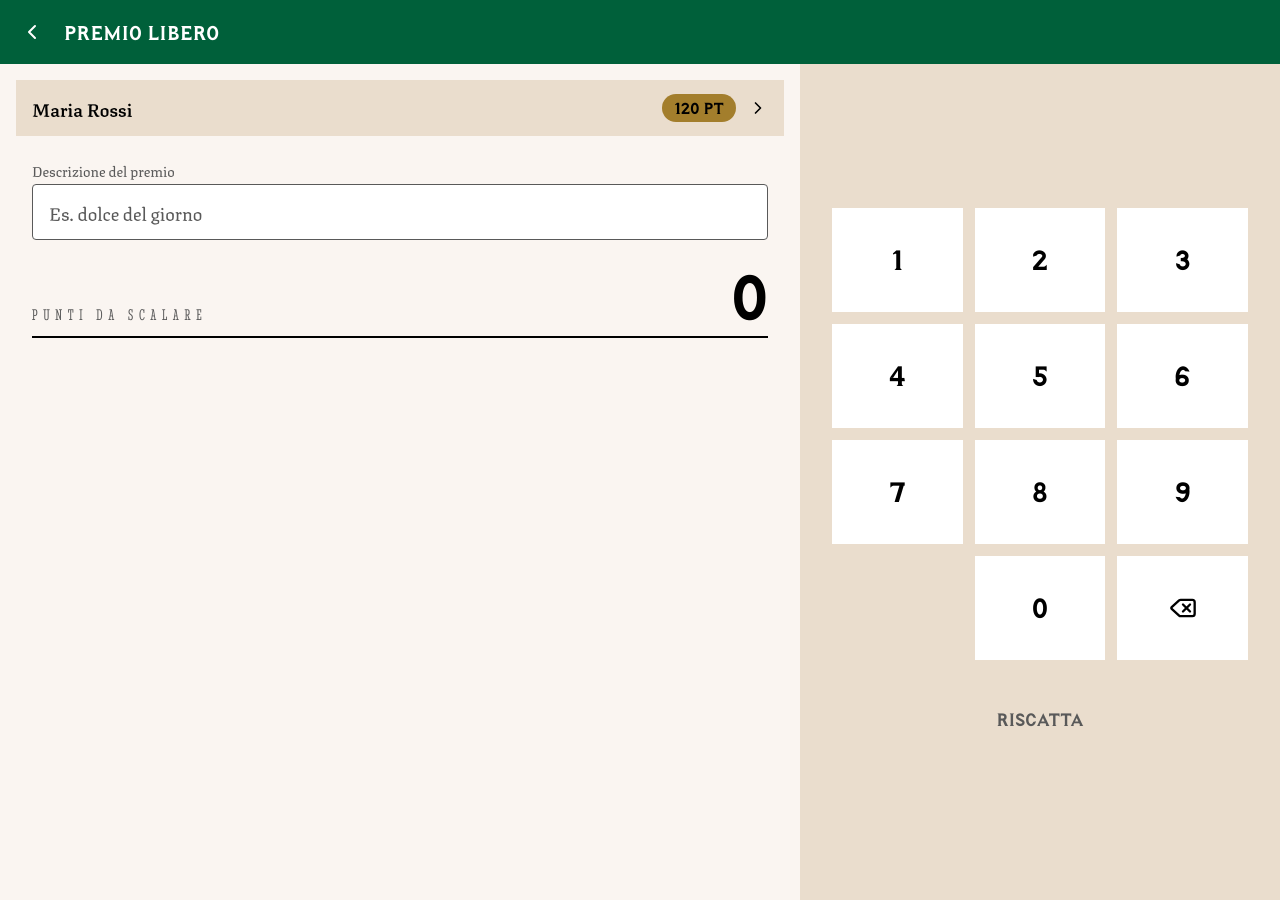
FreeRewardForm: Premio libero › insufficient-balance from the server (changed meanwhile): the balance reloads
In the field labelled "Descrizione del premio": (400, 212) [32,184,768,240], type "Dolce"
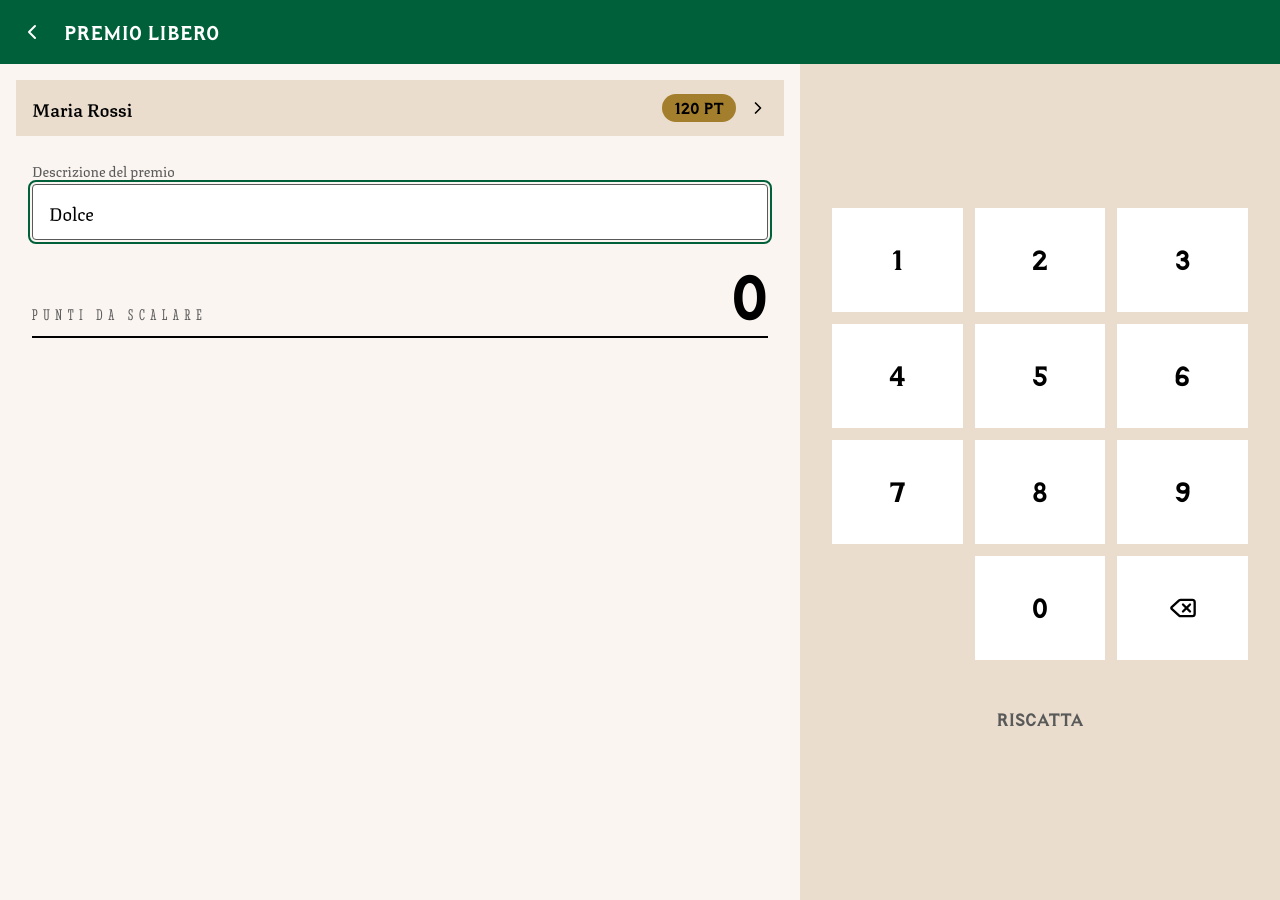
Click the button "1": (897, 260) [832,208,963,312]
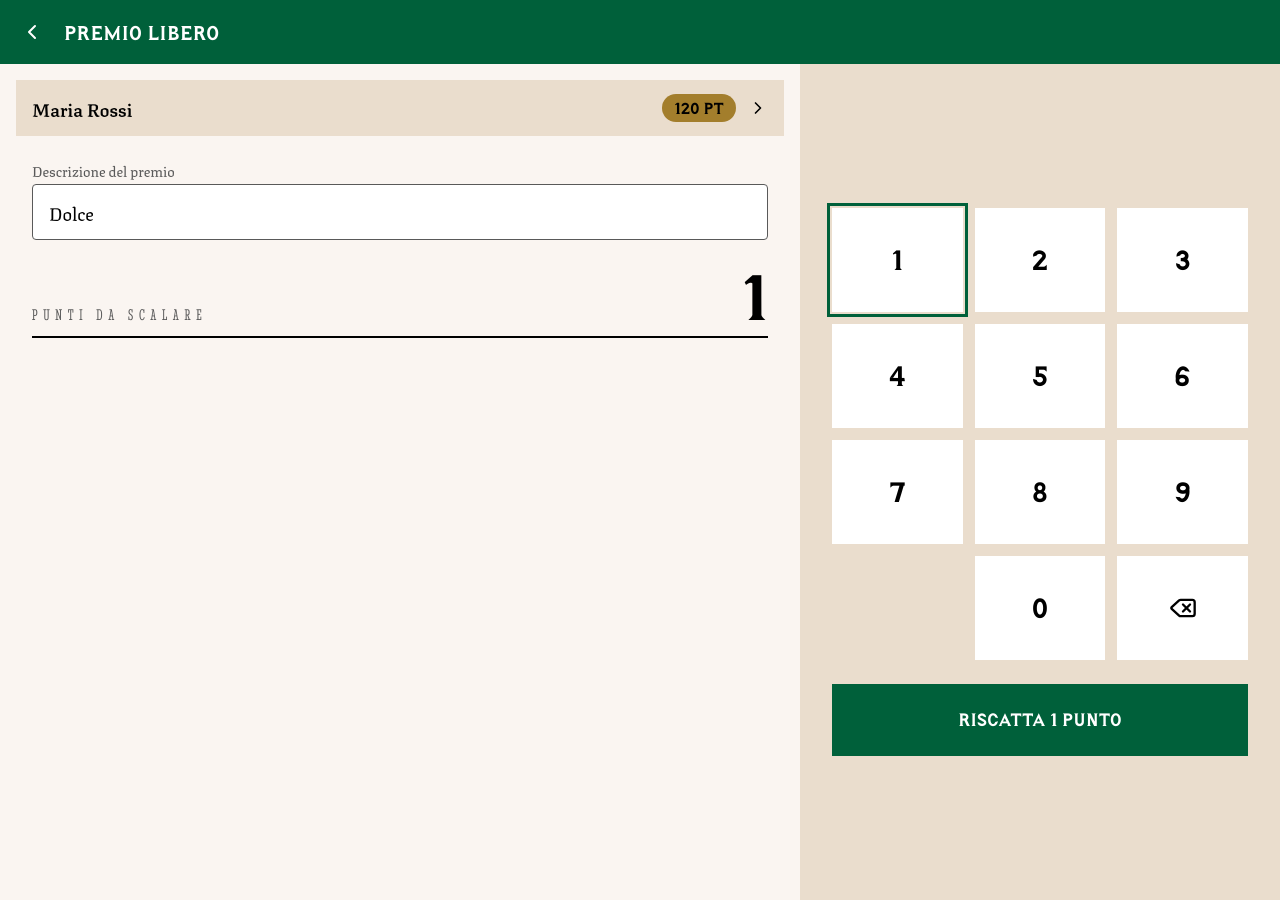
Click the button "0": (1040, 608) [975,556,1105,660]
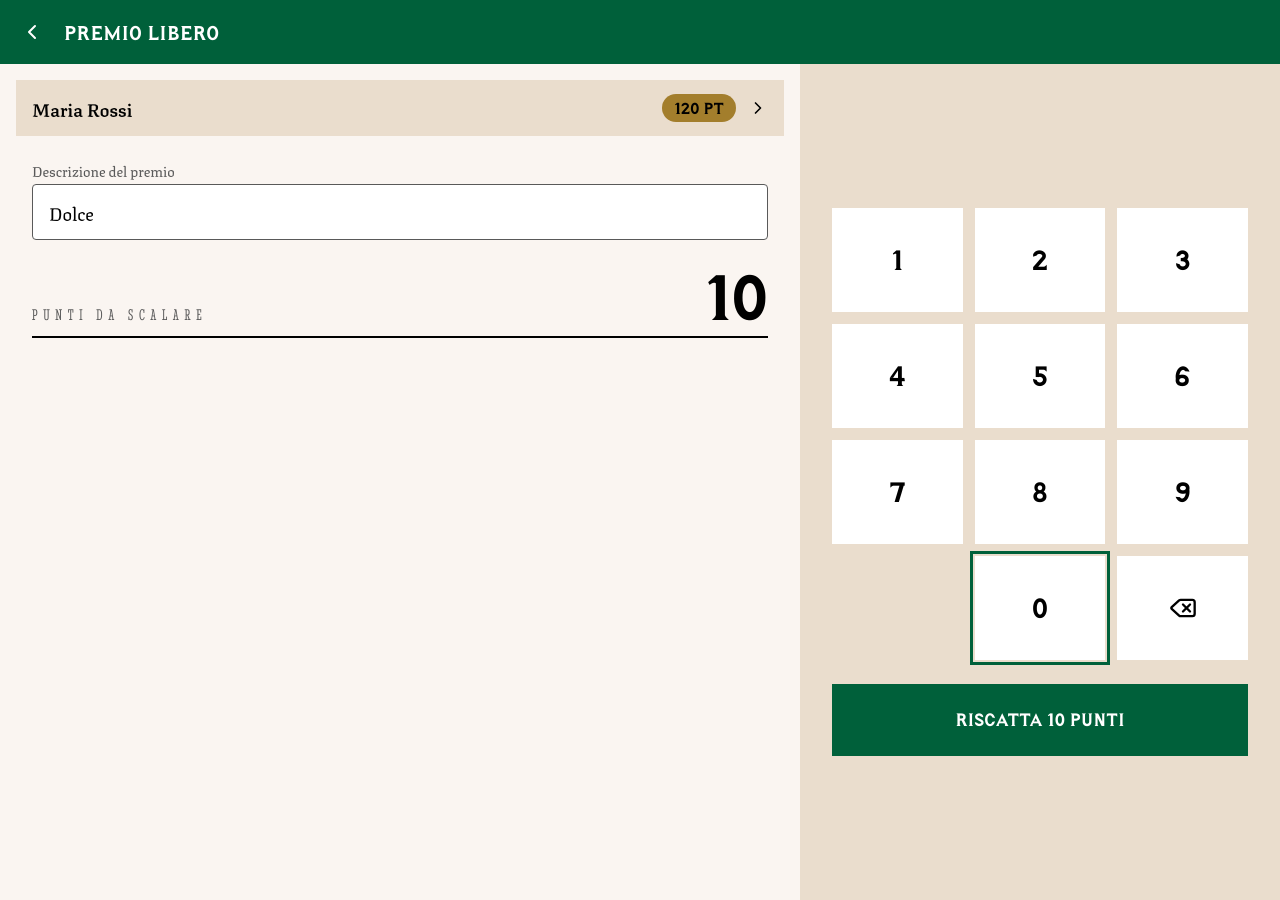
Click the button "0": (1040, 608) [975,556,1105,660]
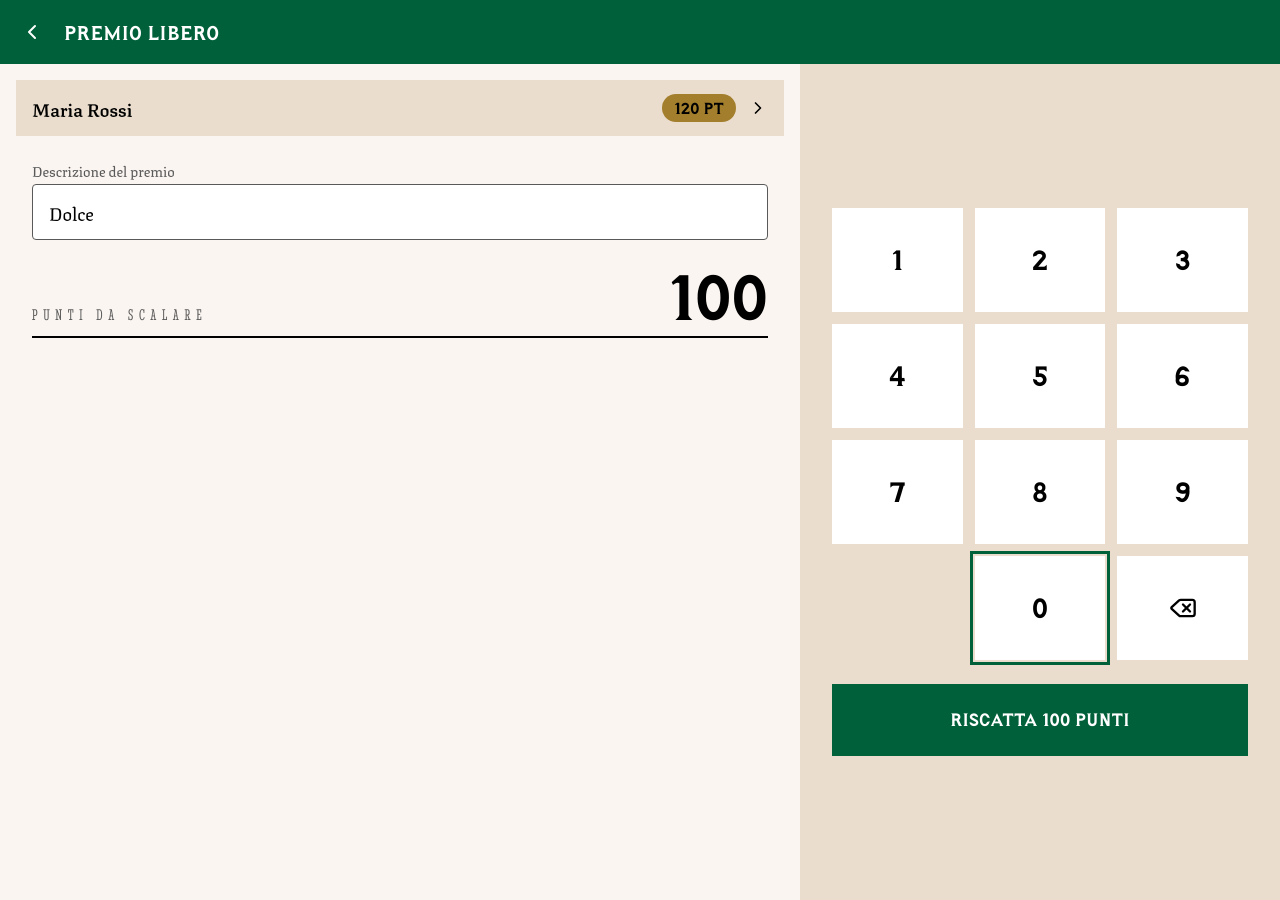
Click the button "Riscatta 100 punti": (1040, 720) [832,684,1248,756]
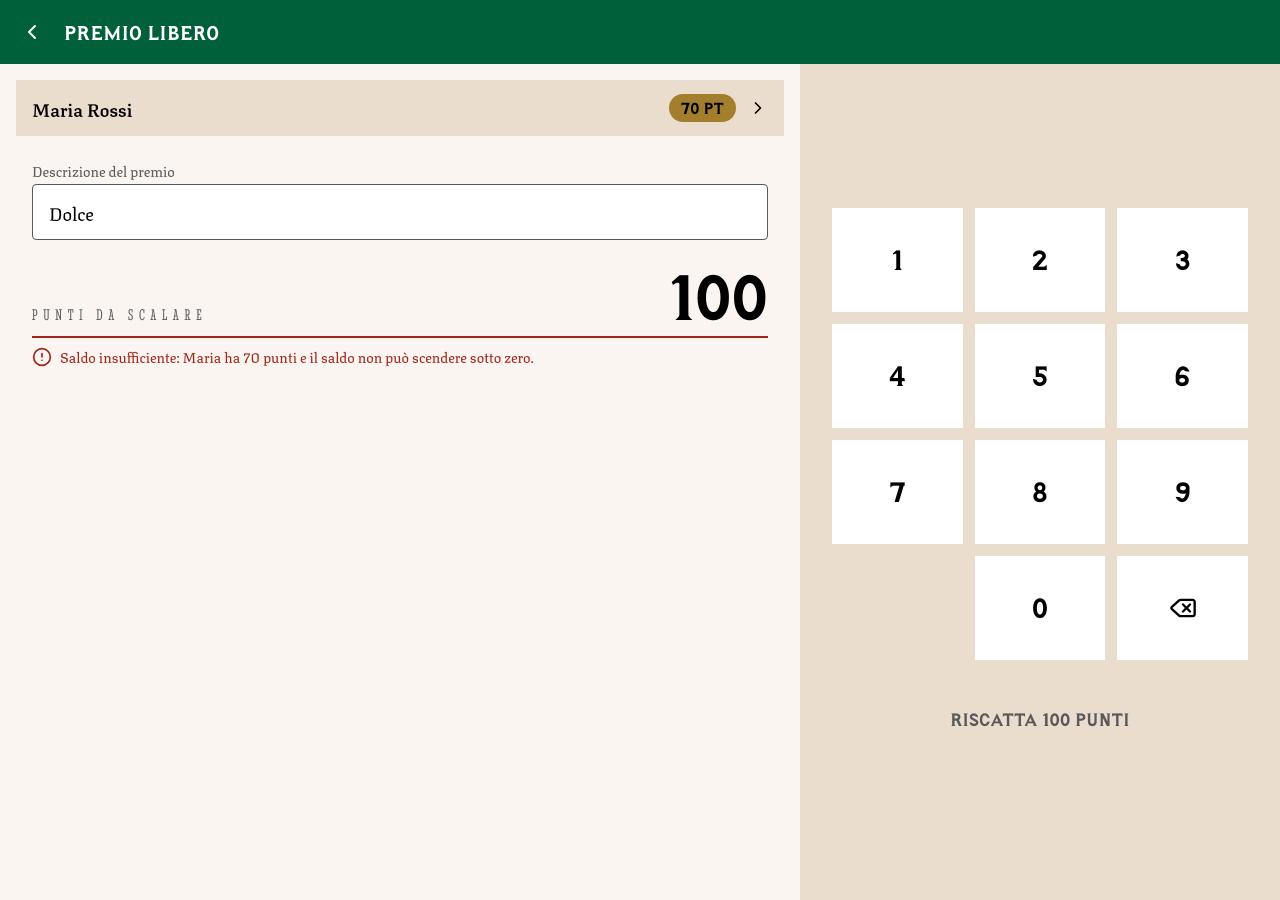
Now the text "Saldo insufficiente: Maria ha 70 punti e il saldo non può scendere sotto zero." is shown, box [60,346,534,367]
Now the button "Riscatta 100 punti" is disabled, box [832,684,1248,756]
